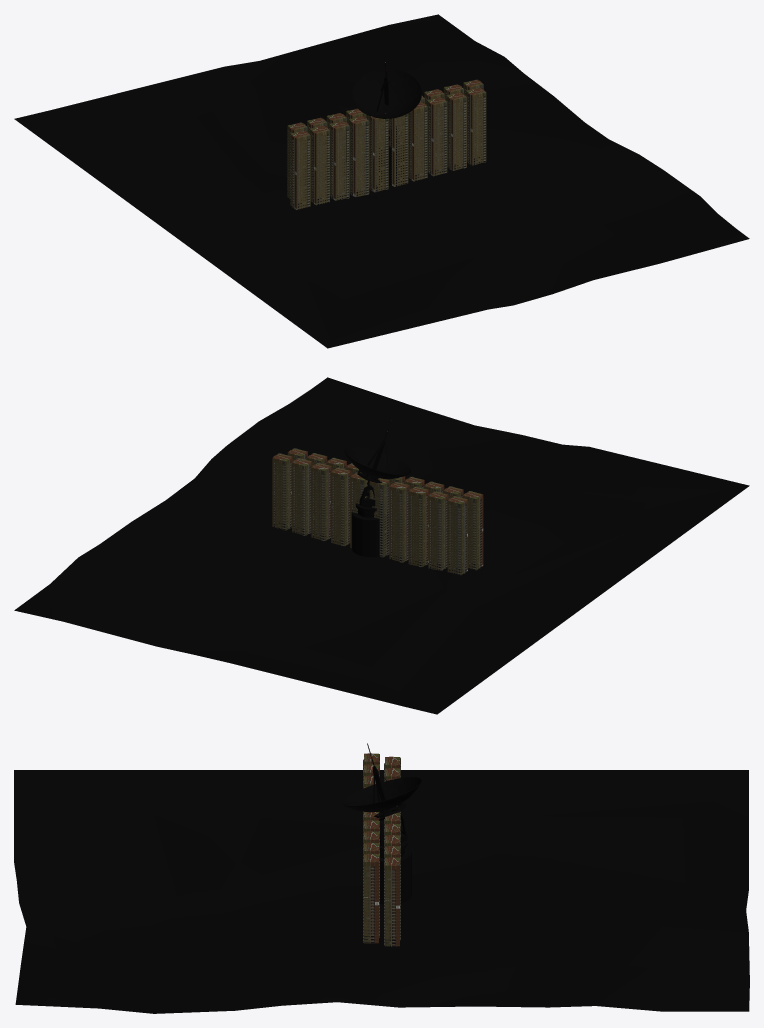
File: exterior.glb
3 renders of one model, top to bottom at view 1: azimuth 30°, elevation 25°; view 2: azimuth 150°, elevation 25°; view 3: azimuth 270°, elevation 25°, orthographic. The views are drawn at different scales.
Visible parts, largest first — view 1: ROT_School_Landscape, BuildingShell1_1, Dish; view 2: ROT_School_Landscape, BuildingShell1_1, DishBase (2), Dish; view 3: ROT_School_Landscape, BuildingShell1_1, Dish, DishBase (2).
Part boxes in pixels (x1,y1,x2,y2): ROT_School_Landscape: (14,14,749,348); BuildingShell1_1: (287,79,486,209); Dish: (352,62,421,118); ROT_School_Landscape: (14,377,749,714); BuildingShell1_1: (272,448,483,575); DishBase (2): (351,483,388,557); Dish: (344,421,410,496); ROT_School_Landscape: (14,770,749,1013); BuildingShell1_1: (363,753,400,946); Dish: (342,743,421,817); DishBase (2): (379,813,411,904).
Bounding box in the file's own units: 1107 × 315 × 1393.
4 materials, 1 textured.
